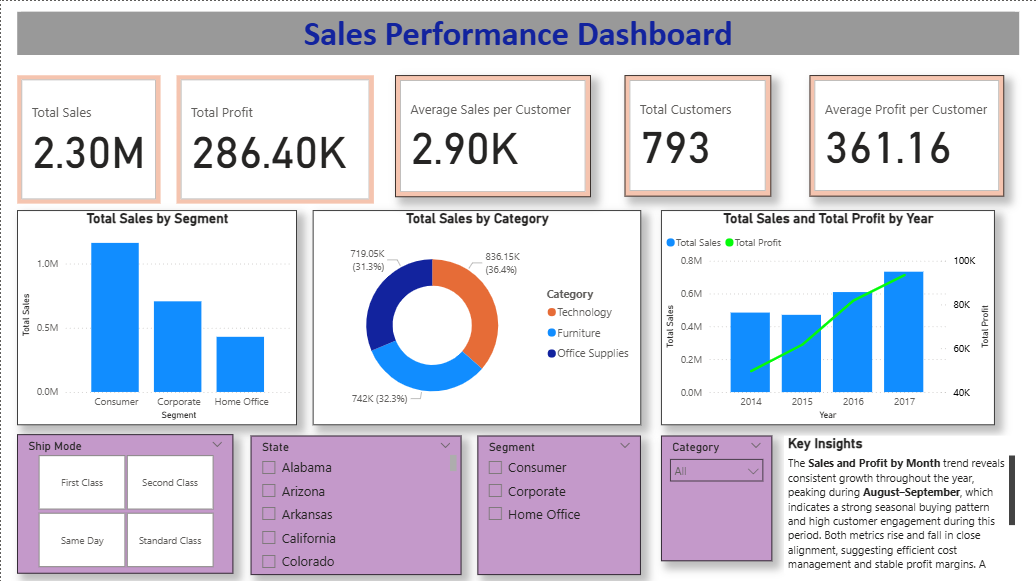

This screenshot's page, from the dashboard's own definition file:
{"tool":"powerbi","page":{"name":"Dashboard 2","canvas":[1280,720],"ordinal":3},"visuals":[{"type":"textbox","title":"Sales Performance Dashboard","box":[20.3,14,1236.7,53],"z":0},{"type":"cardVisual","fields":{"Data":["Orders.Total Customers"]},"box":[770.4,92,180.9,149.7],"z":4},{"type":"cardVisual","fields":{"Data":["Orders.Average Profit per Customer"]},"box":[998.1,92,240.2,149.7],"z":5},{"type":"clusteredColumnChart","fields":{"Y":["Orders.Total Sales"],"Category":["Orders.Segment"]},"box":[20,258.3,345,265],"z":6},{"type":"donutChart","fields":{"Category":["Orders.Category"],"Y":["Orders.Total Sales"]},"box":[385,258.3,405,265],"z":7},{"type":"lineClusteredColumnComboChart","fields":{"Y":["Orders.Total Sales"],"Y2":["Orders.Total Profit"],"Category":["Orders.Order Date.Variation.Date Hierarchy.Year"]},"box":[815,258.3,411.7,265],"z":8},{"type":"slicer","fields":{"Values":["Orders.Segment"]},"box":[588.3,536.7,201.7,171.7],"z":9},{"type":"slicer","fields":{"Values":["Orders.Category"]},"box":[815,536.7,136.7,155],"z":10},{"type":"slicer","fields":{"Values":["Orders.Ship Mode"]},"box":[20,535,266.7,171.7],"z":11},{"type":"slicer","fields":{"Values":["Orders.State"]},"box":[308.3,536.7,260,171.7],"z":12},{"type":"cardVisual","fields":{"Data":["Orders.Average Sales per Customer"]},"box":[486.7,91.7,241.7,150],"z":13},{"type":"cardVisual","fields":{"Data":["Orders.Total Profit"]},"box":[216.7,91.7,243.3,158.3],"z":14},{"type":"cardVisual","fields":{"Data":["Orders.Total Sales"]},"box":[20,91.7,176.7,158.3],"z":15},{"type":"textbox","title":"Key Insights","box":[966.7,536.7,290,170],"z":16}]}

Visuals, with their boxes in screenshot pixels (x1, y1, x2, y2), scaled from the page's 1280x720 canvas onto the 1036x581 screenshot:
"Sales Performance Dashboard" textbox: 16 11 1017 54
cardVisual - Orders.Total Customers: 624 74 770 195
cardVisual - Orders.Average Profit per Customer: 808 74 1002 195
clusteredColumnChart - Orders.Total Sales x Orders.Segment: 16 208 295 422
donutChart - Orders.Category x Orders.Total Sales: 312 208 639 422
lineClusteredColumnComboChart - Orders.Total Sales x Orders.Total Profit: 660 208 993 422
slicer - Orders.Segment: 476 433 639 572
slicer - Orders.Category: 660 433 770 558
slicer - Orders.Ship Mode: 16 432 232 570
slicer - Orders.State: 250 433 460 572
cardVisual - Orders.Average Sales per Customer: 394 74 590 195
cardVisual - Orders.Total Profit: 175 74 372 202
cardVisual - Orders.Total Sales: 16 74 159 202
"Key Insights" textbox: 782 433 1017 570
